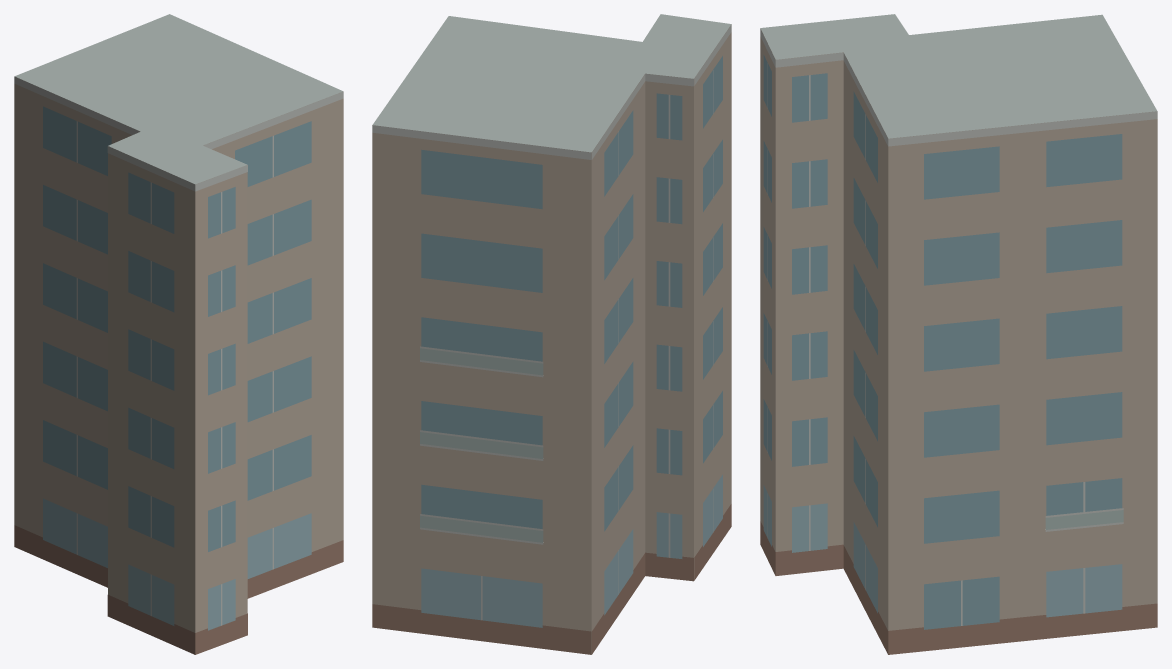
The model's file is survey-upis-32998634.glb.
The picture shows the model from 3 angles, left to right: view 1: azimuth 30°, elevation 25°; view 2: azimuth 150°, elevation 25°; view 3: azimuth 270°, elevation 25°; orthographic projection. The views are drawn at different scales.
Parts seen in each view (by area): view 1: survey-upis-32998634.tmp; view 2: survey-upis-32998634.tmp; view 3: survey-upis-32998634.tmp.
Part boxes in pixels (bbox=[...]): survey-upis-32998634.tmp: bbox=[14, 14, 343, 654]; survey-upis-32998634.tmp: bbox=[372, 14, 731, 654]; survey-upis-32998634.tmp: bbox=[760, 14, 1157, 654].
Size of the model in its own units: 8.29 by 16 by 11.17.
